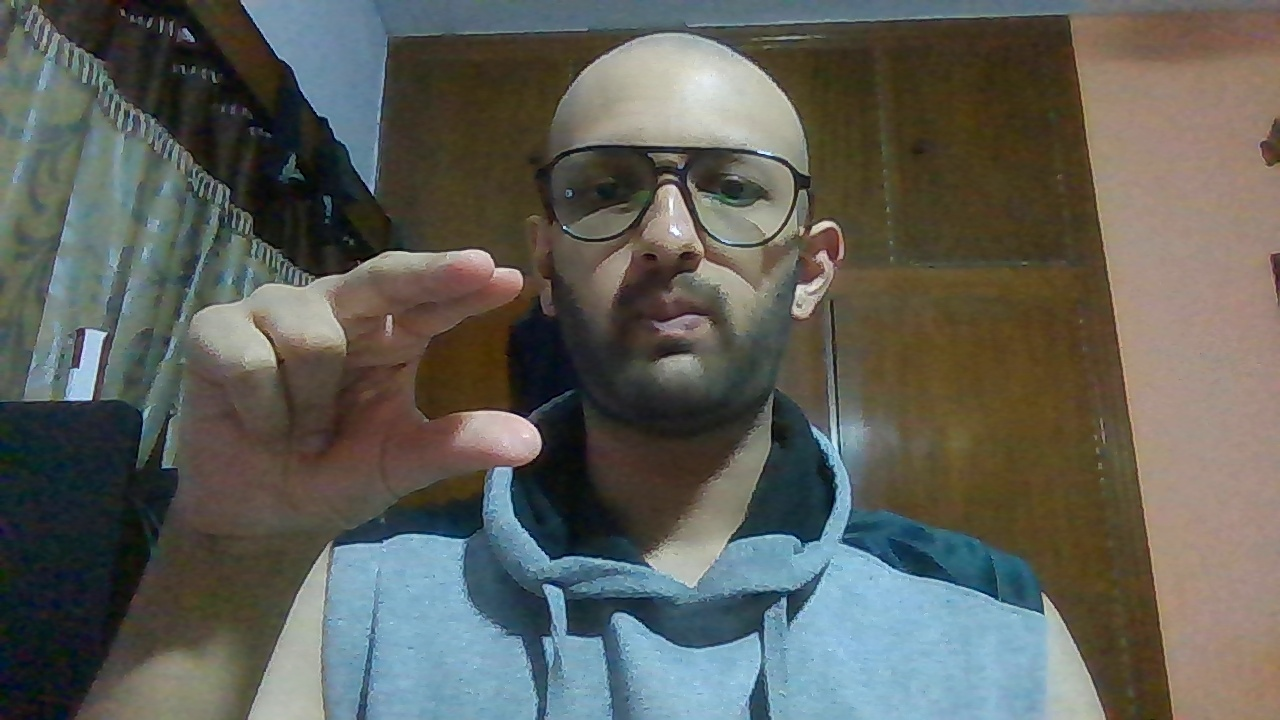No: (169, 241, 543, 531)
